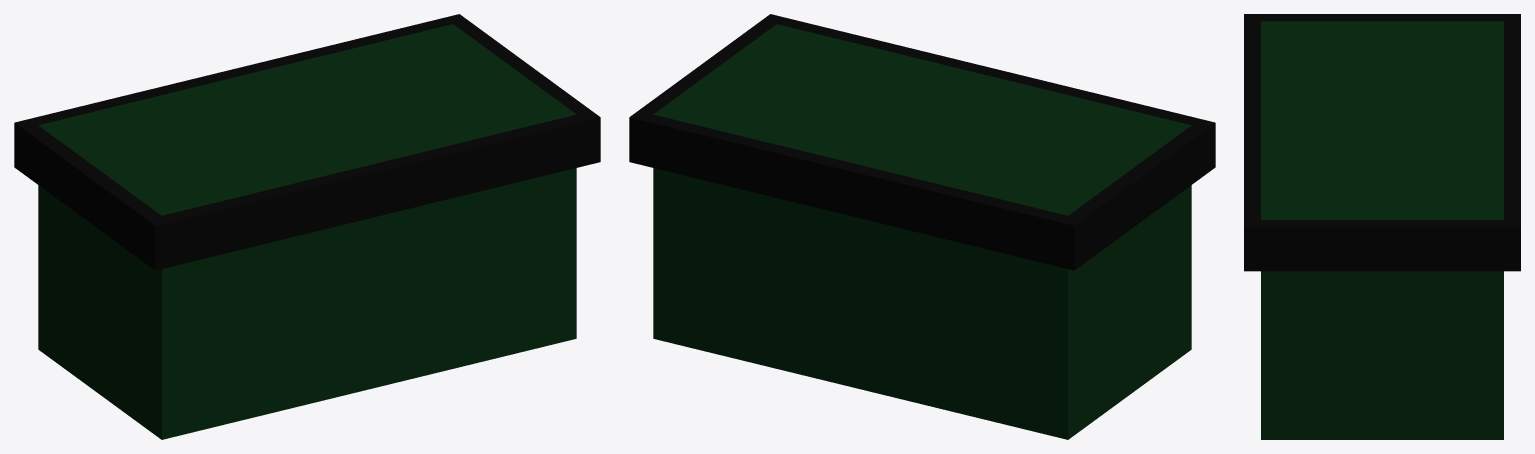
The model's file is ammopickup.obj.
3 views of the same model, side by side, from view 1: azimuth 30°, elevation 25°; view 2: azimuth 150°, elevation 25°; view 3: azimuth 270°, elevation 25° (orthographic).
Parts seen in each view (by area): view 1: pCube1; view 2: pCube1; view 3: pCube1.
Boxes of the visible parts, bbox=[...] form: pCube1: bbox=[14, 14, 600, 439]; pCube1: bbox=[629, 14, 1215, 439]; pCube1: bbox=[1244, 14, 1520, 439].
Size of the model in its own units: 12.31 by 5.92 by 6.76.
